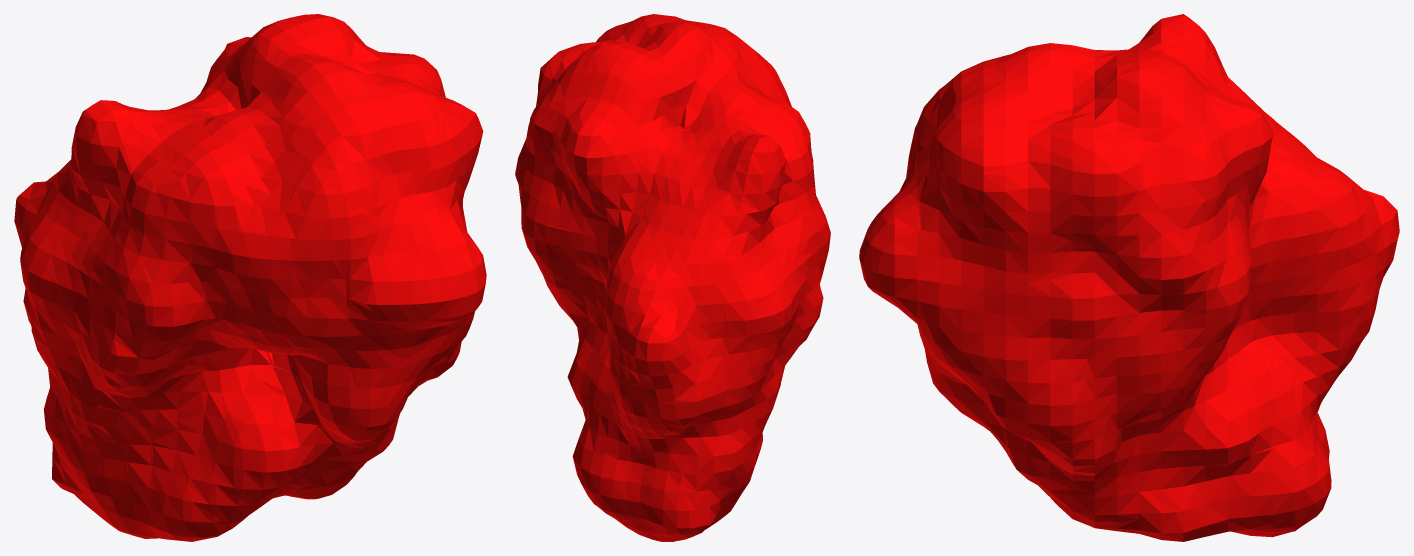
Rendered from nuoF_coarse.dae.
3 renders of one model, left to right at view 1: azimuth 30°, elevation 25°; view 2: azimuth 150°, elevation 25°; view 3: azimuth 270°, elevation 25°, orthographic. The views are drawn at different scales.
Parts seen in each view (by area): view 1: nuoF; view 2: nuoF; view 3: nuoF.
Part boxes in pixels (x1,y1,x2,y2): nuoF: (14,14,486,541); nuoF: (515,14,830,541); nuoF: (859,14,1399,541).
Bounding box in the file's own units: 49.86 × 70.4 × 64.76.
